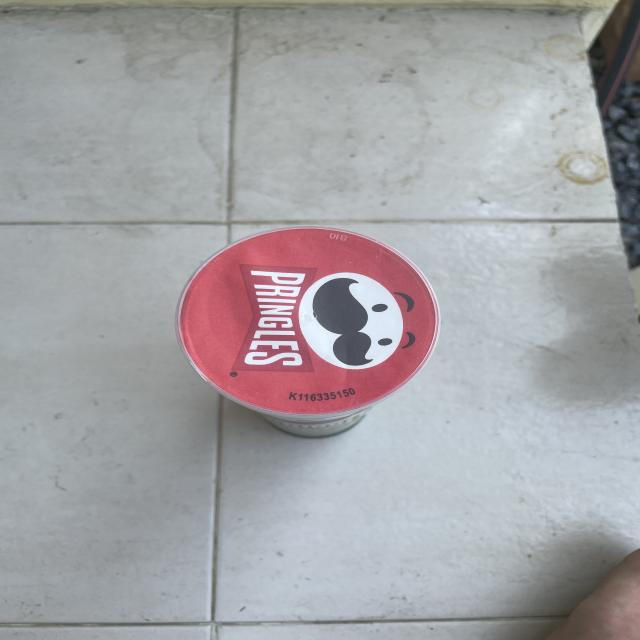a pringles: (175, 224, 448, 442)
